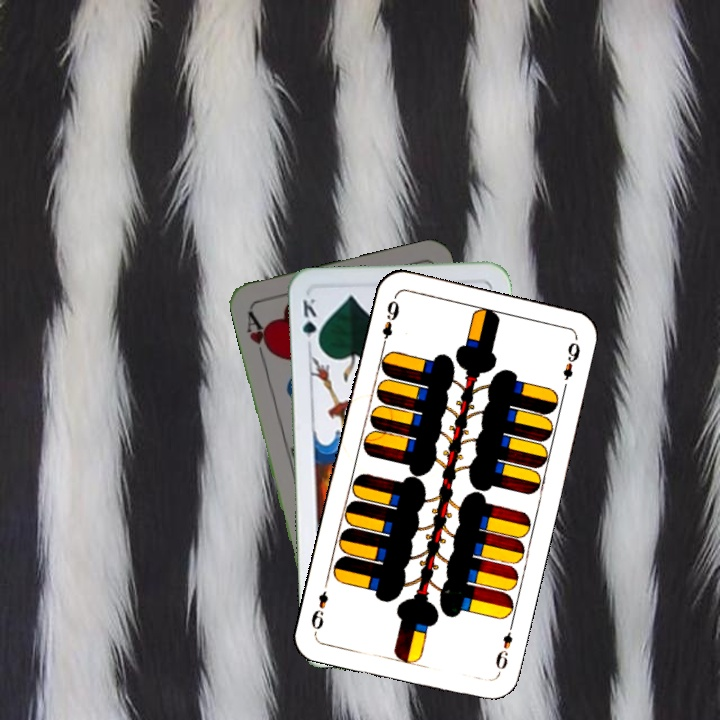E9: (377, 294, 402, 352), (491, 619, 516, 677)
GK: (299, 294, 322, 351)
HA: (242, 307, 276, 365)
